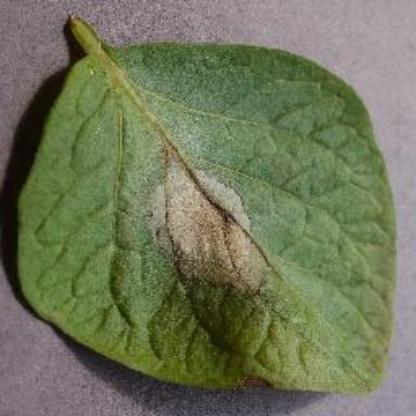Late-Blight: (6, 39, 400, 395)
